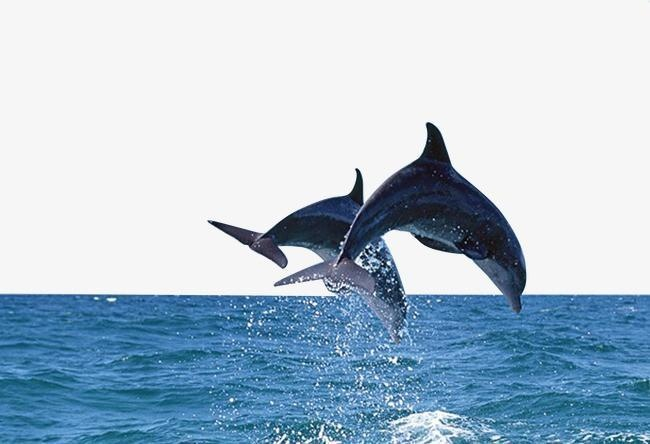fish: (261, 123, 543, 310), (200, 164, 424, 347)
